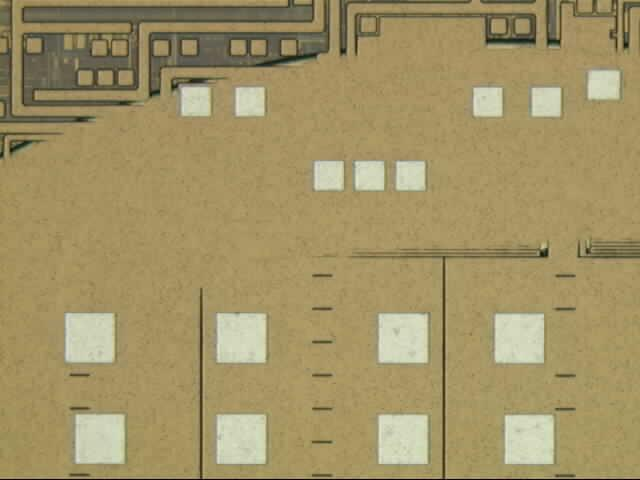BLOCK ETCH: (1, 40, 640, 480)
